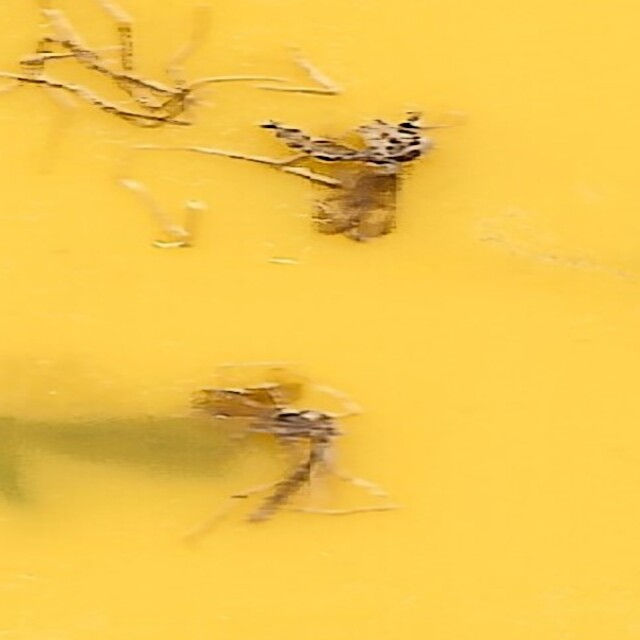Nematocera: (244, 106, 440, 251), (200, 380, 340, 534)
